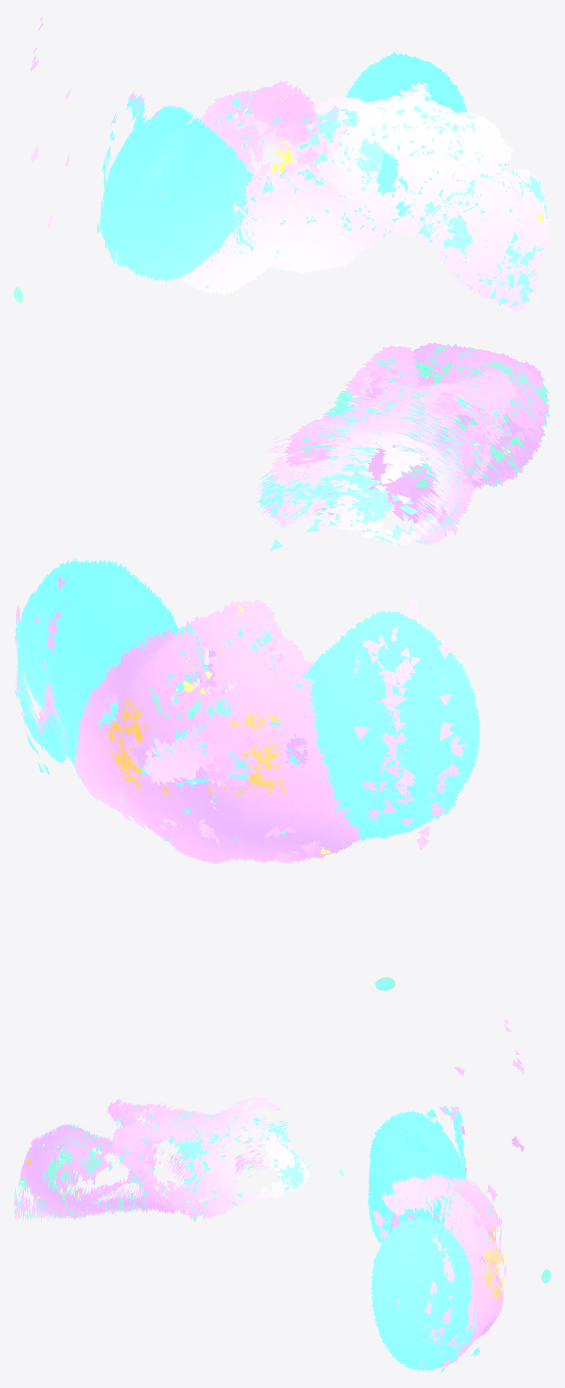
The model's file is brain.glb.
3 renders of one model, top to bottom at view 1: azimuth 30°, elevation 25°; view 2: azimuth 150°, elevation 25°; view 3: azimuth 270°, elevation 25°, orthographic. The views are drawn at different scales.
Parts seen in each view (by area): view 1: brain_central, brain_optic, brain_motor, brain_sensory; view 2: brain_central, brain_optic, brain_motor, brain_sensory; view 3: brain_central, brain_optic, brain_motor, brain_sensory.
Part boxes in pixels (bbox=[...]): brain_central: bbox=[30, 15, 550, 312]; brain_optic: bbox=[14, 51, 467, 302]; brain_motor: bbox=[225, 81, 547, 310]; brain_sensory: bbox=[14, 140, 544, 302]; brain_central: bbox=[14, 342, 549, 864]; brain_optic: bbox=[14, 558, 480, 990]; brain_motor: bbox=[142, 345, 550, 720]; brain_sensory: bbox=[105, 349, 477, 990]; brain_central: bbox=[14, 1019, 543, 1369]; brain_optic: bbox=[367, 1105, 550, 1372]; brain_motor: bbox=[14, 1104, 493, 1238]; brain_sensory: bbox=[26, 1158, 550, 1302].
Bounding box in the file's own units: 2.29 × 1.75 × 3.23.
